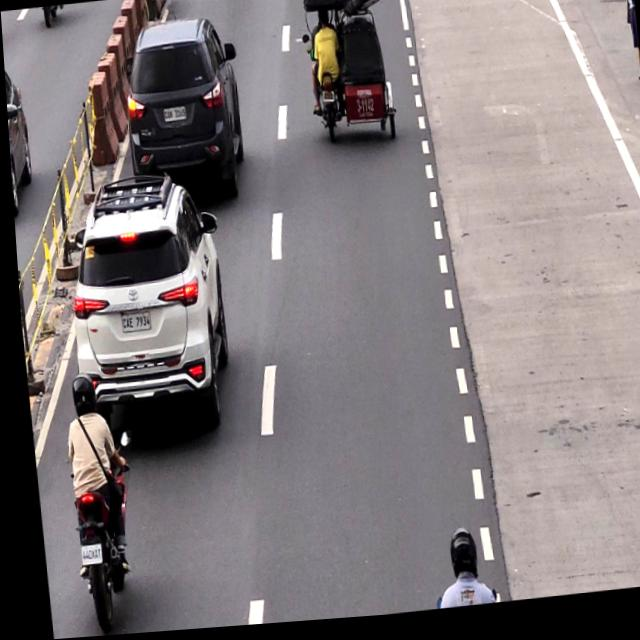Car: (62, 174, 229, 443), (118, 12, 243, 206)
License-Plate: (114, 312, 149, 339), (71, 544, 95, 566), (161, 104, 185, 124)
Motorcycle: (55, 378, 129, 616)
Tricycle: (299, 0, 399, 151)
